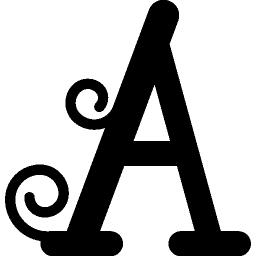a: (81, 4, 247, 228)
